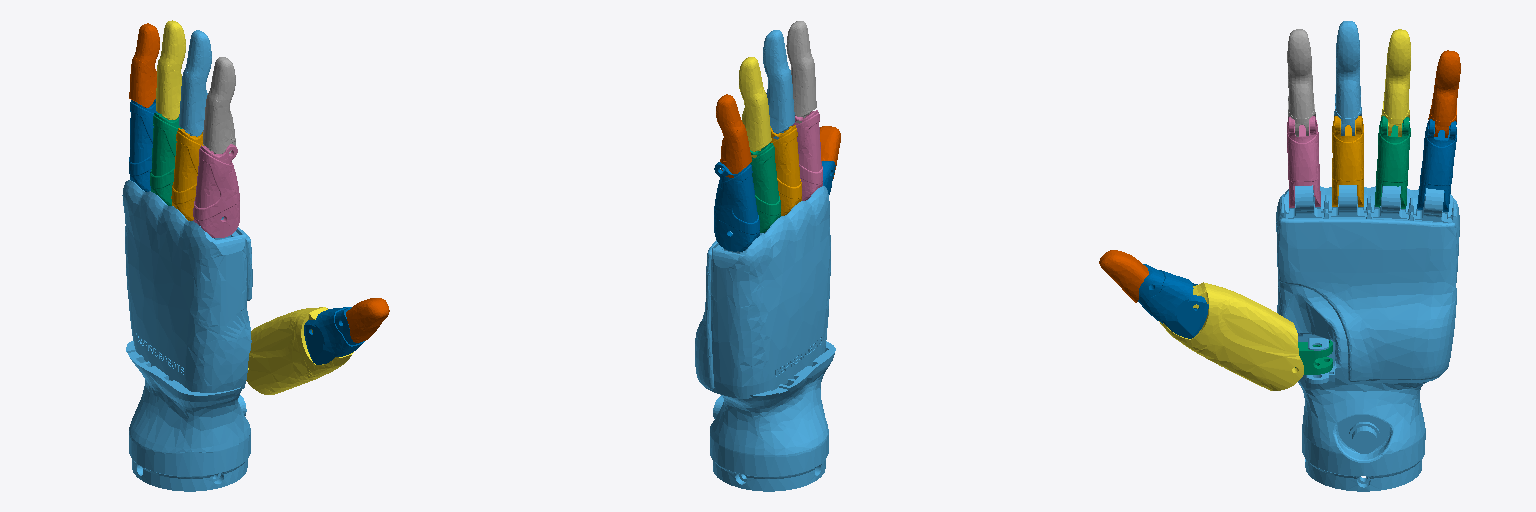
robot.urdf — inspire_hand_left:
<?xml version="1.0" encoding="utf-8"?>
<robot name="inspire_hand_left">
  <!--  joint limit reference: https://en.inspire-robots.com/-->
  <link name="base"/>
  <joint name="base_joint" type="fixed">
    <parent link="base"/>
    <child link="hand_base_link"/>
    <origin xyz="0 0 0" rpy="-1.5707963 0 3.14159"/>
  </joint>
  <link name="hand_base_link">
    <inertial>
      <origin xyz="-0.0025264 -0.066047 -0.0019598" rpy="0 0 0"/>
      <mass value="0.14143"/>
      <inertia ixx="0.00012281" ixy="2.1711E-06" ixz="1.7709E-06" iyy="8.3832E-05" iyz="-1.6551E-06" izz="7.6663E-05"/>
    </inertial>
    <visual>
      <origin xyz="0 0 0" rpy="0 0 0"/>
      <geometry>
        <mesh filename="meshes/visual/left_base_link.stl"/>
      </geometry>
    </visual>
    <collision>
      <origin xyz="0 -0.0136 0" rpy="1.57079 0 0"/>
      <geometry>
        <cylinder length="0.0278" radius="0.028"/>
      </geometry>
    </collision>
    <collision>
      <origin xyz="-0.0032 -0.038 0" rpy="0 0 0"/>
      <geometry>
        <box size="0.0391 0.0202 0.0574"/>
      </geometry>
    </collision>
    <collision>
      <origin xyz="-0.0032 -0.0682 0" rpy="0 0 0"/>
      <geometry>
        <box size="0.0391 0.04 0.0814"/>
      </geometry>
    </collision>
    <collision>
      <origin xyz="0 -0.1081 0" rpy="0 0 0"/>
      <geometry>
        <box size="0.0322 0.04 0.0814"/>
      </geometry>
    </collision>
    <collision>
      <origin xyz="-0.0016 -0.1340 -0.0309" rpy="0 0 0"/>
      <geometry>
        <box size="0.0125 0.0111 0.0089"/>
      </geometry>
    </collision>
    <collision>
      <origin xyz="-0.0016 -0.1340 -0.0118" rpy="0 0 0"/>
      <geometry>
        <box size="0.0125 0.0111 0.0089"/>
      </geometry>
    </collision>
    <collision>
      <origin xyz="-0.0016 -0.1340 0.0070" rpy="0 0 0"/>
      <geometry>
        <box size="0.0125 0.0111 0.0089"/>
      </geometry>
    </collision>
    <collision>
      <origin xyz="-0.0016 -0.1340 0.0262" rpy="0 0 0"/>
      <geometry>
        <box size="0.0125 0.0111 0.0089"/>
      </geometry>
    </collision>
  </link>
  <link name="thumb_proximal_base">
    <inertial>
      <origin xyz="0.0048817 0.0009382 -0.00722" rpy="0 0 0"/>
      <mass value="0.0018869"/>
      <inertia ixx="5.816E-08" ixy="-1.4539E-08" ixz="-4.491E-09" iyy="7.9161E-08" iyz="-1.8727E-09" izz="6.7433E-08"/>
    </inertial>
    <visual>
      <origin xyz="0 0 0" rpy="0 0 0"/>
      <geometry>
        <mesh filename="meshes/visual/left_thumb_proximal_base.stl"/>
      </geometry>
    </visual>
    <collision>
      <origin xyz="0 0 0" rpy="0 0 0"/>
      <geometry>
        <mesh filename="meshes/collision/left_thumb_proximal_base.obj"/>
      </geometry>
    </collision>
  </link>
  <joint name="thumb_proximal_yaw_joint" type="revolute">
    <origin xyz="-0.01696 -0.0691 0.02045" rpy="1.5708 -1.5708 0"/>
    <parent link="hand_base_link"/>
    <child link="thumb_proximal_base"/>
    <axis xyz="0 0 1"/>
    <limit lower="0" upper="1.308" effort="1" velocity="0.5"/>
  </joint>
  <link name="thumb_proximal">
    <inertial>
      <origin xyz="0.021932 -0.012785 -0.0080386" rpy="0 0 0"/>
      <mass value="0.0066075"/>
      <inertia ixx="1.5686E-06" ixy="7.8296E-07" ixz="8.9143E-10" iyy="1.7353E-06" iyz="1.0191E-09" izz="2.786E-06"/>
    </inertial>
    <visual>
      <origin xyz="0 0 0" rpy="0 0 0"/>
      <geometry>
        <mesh filename="meshes/visual/left_thumb_proximal.stl"/>
      </geometry>
    </visual>
    <collision>
      <origin xyz="0 0 0" rpy="0 0 0"/>
      <geometry>
        <mesh filename="meshes/collision/left_thumb_proximal.obj"/>
      </geometry>
    </collision>
  </link>
  <joint name="thumb_proximal_pitch_joint" type="revolute">
    <origin xyz="0.0099867 0.0098242 -0.0089" rpy="-1.5708 0 0.16939"/>
    <parent link="thumb_proximal_base"/>
    <child link="thumb_proximal"/>
    <axis xyz="0 0 -1"/>
    <limit lower="0" upper="0.6" effort="1" velocity="0.5"/>
  </joint>
  <link name="thumb_intermediate">
    <inertial>
      <origin xyz="0.0095544 0.0016282 -0.0071997" rpy="0 0 0"/>
      <mass value="0.0037847"/>
      <inertia ixx="3.6981E-07" ixy="9.8581E-08" ixz="-4.7469E-12" iyy="3.2394E-07" iyz="-1.0939E-12" izz="4.6531E-07"/>
    </inertial>
    <visual>
      <origin xyz="0 0 0" rpy="0 0 0"/>
      <geometry>
        <mesh filename="meshes/visual/left_thumb_intermediate.stl"/>
      </geometry>
    </visual>
    <collision>
      <origin xyz="0 0 0" rpy="0 0 0"/>
      <geometry>
        <mesh filename="meshes/collision/left_thumb_intermediate.obj"/>
      </geometry>
    </collision>
  </link>
  <joint name="thumb_intermediate_joint" type="revolute">
    <origin xyz="0.04407 -0.034553 -0.0008" rpy="0 0 0"/>
    <parent link="thumb_proximal"/>
    <child link="thumb_intermediate"/>
    <axis xyz="0 0 -1"/>
    <limit lower="0" upper="0.8" effort="1" velocity="0.5"/>
    <mimic joint="thumb_proximal_pitch_joint" multiplier="1.334" offset="0"/>
  </joint>
  <link name="thumb_distal">
    <inertial>
      <origin xyz="0.0092888 -0.0049529 -0.0060033" rpy="0 0 0"/>
      <mass value="0.0033441"/>
      <inertia ixx="1.3632E-07" ixy="5.6788E-08" ixz="-9.2764E-11" iyy="1.4052E-07" iyz="1.2283E-10" izz="2.0026E-07"/>
    </inertial>
    <visual>
      <origin xyz="0 0 0" rpy="0 0 0"/>
      <geometry>
        <mesh filename="meshes/visual/left_thumb_distal.stl"/>
      </geometry>
    </visual>
    <collision>
      <origin xyz="0 0 0" rpy="0 0 0"/>
      <geometry>
        <mesh filename="meshes/collision/left_thumb_distal.obj" scale="1 1 1"/>
      </geometry>
    </collision>
  </link>
  <joint name="thumb_distal_joint" type="revolute">
    <origin xyz="0.020248 -0.010156 -0.0012" rpy="0 0 0"/>
    <parent link="thumb_intermediate"/>
    <child link="thumb_distal"/>
    <axis xyz="0 0 -1"/>
    <limit lower="0" upper="0.4" effort="1" velocity="0.5"/>
    <mimic joint="thumb_proximal_pitch_joint" multiplier="0.667" offset="0"/>
  </joint>
  <link name="index_proximal">
    <inertial>
      <origin xyz="0.0012259 -0.011942 -0.0060001" rpy="0 0 0"/>
      <mass value="0.0042403"/>
      <inertia ixx="6.6232E-07" ixy="1.5775E-08" ixz="1.8515E-12" iyy="2.1146E-07" iyz="5.0828E-12" izz="6.9398E-07"/>
    </inertial>
    <visual>
      <origin xyz="0 0 0" rpy="0 0 0"/>
      <geometry>
        <mesh filename="meshes/visual/left_index_proximal.stl"/>
      </geometry>
    </visual>
    <collision>
      <origin xyz="0 0 0" rpy="0 0 0"/>
      <geometry>
        <mesh filename="meshes/collision/left_index_proximal.obj"/>
      </geometry>
    </collision>
  </link>
  <joint name="index_proximal_joint" type="revolute">
    <origin xyz="0.00028533 -0.13653 0.032268" rpy="-0.034907 0 0"/>
    <parent link="hand_base_link"/>
    <child link="index_proximal"/>
    <axis xyz="0 0 -1"/>
    <limit lower="0" upper="1.47" effort="1" velocity="0.5"/>
  </joint>
  <link name="index_intermediate">
    <inertial>
      <origin xyz="0.0019697 -0.019589 -0.005" rpy="0 0 0"/>
      <mass value="0.0045683"/>
      <inertia ixx="7.6111E-07" ixy="-8.7637E-08" ixz="-3.7751E-13" iyy="9.6076E-08" iyz="-9.9444E-13" izz="7.8179E-07"/>
    </inertial>
    <visual>
      <origin xyz="0 0 0" rpy="0 0 0"/>
      <geometry>
        <mesh filename="meshes/visual/left_index_intermediate.stl"/>
      </geometry>
    </visual>
    <collision>
      <origin xyz="0 0 0" rpy="0 0 0"/>
      <geometry>
        <mesh filename="meshes/collision/left_index_intermediate.obj"/>
      </geometry>
    </collision>
  </link>
  <joint name="index_intermediate_joint" type="revolute">
    <origin xyz="-0.0026138 -0.032026 -0.001" rpy="0 0 0"/>
    <parent link="index_proximal"/>
    <child link="index_intermediate"/>
    <axis xyz="0 0 -1"/>
    <limit lower="-0.04545" upper="1.56" effort="1" velocity="0.5"/>
    <mimic joint="index_proximal_joint" multiplier="1.06399" offset="-0.04545"/>
  </joint>
  <link name="middle_proximal">
    <inertial>
      <origin xyz="0.001297 -0.011934 -0.0060001" rpy="0 0 0"/>
      <mass value="0.0042403"/>
      <inertia ixx="6.6211E-07" ixy="1.8461E-08" ixz="1.8002E-12" iyy="2.1167E-07" iyz="6.6808E-12" izz="6.9397E-07"/>
    </inertial>
    <visual>
      <origin xyz="0 0 0" rpy="0 0 0"/>
      <geometry>
        <mesh filename="meshes/visual/left_index_proximal.stl"/>
      </geometry>
    </visual>
    <collision>
      <origin xyz="0 0 0" rpy="0 0 0"/>
      <geometry>
        <mesh filename="meshes/collision/left_index_proximal.obj"/>
      </geometry>
    </collision>
  </link>
  <joint name="middle_proximal_joint" type="revolute">
    <origin xyz="0.00028533 -0.1371 0.01295" rpy="0 0 0"/>
    <parent link="hand_base_link"/>
    <child link="middle_proximal"/>
    <axis xyz="0 0 -1"/>
    <limit lower="0" upper="1.47" effort="1" velocity="0.5"/>
  </joint>
  <link name="middle_intermediate">
    <inertial>
      <origin xyz="0.001921 -0.020796 -0.005" rpy="0 0 0"/>
      <mass value="0.0050396"/>
      <inertia ixx="9.5822E-07" ixy="-1.1425E-07" ixz="-2.4791E-12" iyy="1.0646E-07" iyz="-5.9173E-12" izz="9.8384E-07"/>
    </inertial>
    <visual>
      <origin xyz="0 0 0" rpy="0 0 0"/>
      <geometry>
        <mesh filename="meshes/visual/left_middle_intermediate.stl"/>
      </geometry>
    </visual>
    <collision>
      <origin xyz="0 0 0" rpy="0 0 0"/>
      <geometry>
        <mesh filename="meshes/collision/left_middle_intermediate.obj"/>
      </geometry>
    </collision>
  </link>
  <joint name="middle_intermediate_joint" type="revolute">
    <origin xyz="-0.0024229 -0.032041 -0.001" rpy="0 0 0"/>
    <parent link="middle_proximal"/>
    <child link="middle_intermediate"/>
    <axis xyz="0 0 -1"/>
    <limit lower="-0.04545" upper="1.56" effort="1" velocity="0.5"/>
    <mimic joint="middle_proximal_joint" multiplier="1.06399" offset="-0.04545"/>
  </joint>
  <link name="ring_proximal">
    <inertial>
      <origin xyz="0.001297 -0.011934 -0.0060002" rpy="0 0 0"/>
      <mass value="0.0042403"/>
      <inertia ixx="6.6211E-07" ixy="1.8461E-08" ixz="1.5793E-12" iyy="2.1167E-07" iyz="6.6868E-12" izz="6.9397E-07"/>
    </inertial>
    <visual>
      <origin xyz="0 0 0" rpy="0 0 0"/>
      <geometry>
        <mesh filename="meshes/visual/left_index_proximal.stl"/>
      </geometry>
    </visual>
    <collision>
      <origin xyz="0 0 0" rpy="0 0 0"/>
      <geometry>
        <mesh filename="meshes/collision/left_index_proximal.obj"/>
      </geometry>
    </collision>
  </link>
  <joint name="ring_proximal_joint" type="revolute">
    <origin xyz="0.00028533 -0.13691 -0.0062872" rpy="0.05236 0 0"/>
    <parent link="hand_base_link"/>
    <child link="ring_proximal"/>
    <axis xyz="0 0 -1"/>
    <limit lower="0" upper="1.47" effort="1" velocity="0.5"/>
  </joint>
  <link name="ring_intermediate">
    <inertial>
      <origin xyz="0.0021753 -0.019567 -0.005" rpy="0 0 0"/>
      <mass value="0.0045683"/>
      <inertia ixx="7.6286E-07" ixy="-8.0635E-08" ixz="-6.1562E-13" iyy="9.431E-08" iyz="-5.8619E-13" izz="7.8177E-07"/>
    </inertial>
    <visual>
      <origin xyz="0 0 0" rpy="0 0 0"/>
      <geometry>
        <mesh filename="meshes/visual/left_index_intermediate.stl"/>
      </geometry>
    </visual>
    <collision>
      <origin xyz="0 0 0" rpy="0 0 0"/>
      <geometry>
        <mesh filename="meshes/collision/left_index_intermediate.obj"/>
      </geometry>
    </collision>
  </link>
  <joint name="ring_intermediate_joint" type="revolute">
    <origin xyz="-0.0024229 -0.032041 -0.001" rpy="0 0 0"/>
    <parent link="ring_proximal"/>
    <child link="ring_intermediate"/>
    <axis xyz="0 0 -1"/>
    <limit lower="-0.04545" upper="1.56" effort="1" velocity="0.5"/>
    <mimic joint="ring_proximal_joint" multiplier="1.06399" offset="-0.04545"/>
  </joint>
  <link name="pinky_proximal">
    <inertial>
      <origin xyz="0.001297 -0.011934 -0.0060001" rpy="0 0 0"/>
      <mass value="0.0042403"/>
      <inertia ixx="6.6211E-07" ixy="1.8461E-08" ixz="1.6907E-12" iyy="2.1167E-07" iyz="6.9334E-12" izz="6.9397E-07"/>
    </inertial>
    <visual>
      <origin xyz="0 0 0" rpy="0 0 0"/>
      <geometry>
        <mesh filename="meshes/visual/left_index_proximal.stl"/>
      </geometry>
    </visual>
    <collision>
      <origin xyz="0 0 0" rpy="0 0 0"/>
      <geometry>
        <mesh filename="meshes/collision/left_index_proximal.obj"/>
      </geometry>
    </collision>
  </link>
  <joint name="pinky_proximal_joint" type="revolute">
    <origin xyz="0.00028533 -0.13571 -0.025488" rpy="0.10472 0 0"/>
    <parent link="hand_base_link"/>
    <child link="pinky_proximal"/>
    <axis xyz="0 0 -1"/>
    <limit lower="0" upper="1.47" effort="1" velocity="0.5"/>
  </joint>
  <link name="pinky_intermediate">
    <inertial>
      <origin xyz="0.0024748 -0.016203 -0.0050031" rpy="0 0 0"/>
      <mass value="0.0035996"/>
      <inertia ixx="4.3913E-07" ixy="-4.1418E-08" ixz="3.7168E-11" iyy="7.0247E-08" iyz="-5.8613E-11" izz="4.4867E-07"/>
    </inertial>
    <visual>
      <origin xyz="0 0 0" rpy="0 0 0"/>
      <geometry>
        <mesh filename="meshes/visual/left_pinky_intermediate.stl"/>
      </geometry>
    </visual>
    <collision>
      <origin xyz="0 0 0" rpy="0 0 0"/>
      <geometry>
        <mesh filename="meshes/collision/left_pinky_intermediate.obj"/>
      </geometry>
    </collision>
  </link>
  <joint name="pinky_intermediate_joint" type="revolute">
    <origin xyz="-0.0024229 -0.032041 -0.001" rpy="0 0 0"/>
    <parent link="pinky_proximal"/>
    <child link="pinky_intermediate"/>
    <axis xyz="0 0 -1"/>
    <limit lower="-0.04545" upper="1.56" effort="1" velocity="0.5"/>
    <mimic joint="pinky_proximal_joint" multiplier="1.06399" offset="-0.04545"/>
  </joint>

  <link name='thumb_tip'/>
  <joint name="thumb_tip_joint" type="fixed">
    <origin xyz="0.0202 -0.0140 -0.006" rpy="0 0 0"/>
    <parent link="thumb_distal"/>
    <child link="thumb_tip"/>
  </joint>
  <link name='index_tip'/>
  <joint name="index_tip_joint" type="fixed">
    <origin xyz="-0.0008 -0.045 -0.005" rpy="0 0 0"/>
    <parent link="index_intermediate"/>
    <child link="index_tip"/>
  </joint>
  <link name='middle_tip'/>
  <joint name="middle_tip_joint" type="fixed">
    <origin xyz="-0.001 -0.048 -0.005" rpy="0 0 0"/>
    <parent link="middle_intermediate"/>
    <child link="middle_tip"/>
  </joint>
  <link name='ring_tip'/>
  <joint name="ring_tip_joint" type="fixed">
    <origin xyz="-0.0008 -0.045 -0.005" rpy="0 0 0"/>
    <parent link="ring_intermediate"/>
    <child link="ring_tip"/>
  </joint>
  <link name='pinky_tip'/>
  <joint name="pinky_tip_joint" type="fixed">
    <origin xyz="-0.0008 -0.037 -0.005" rpy="0 0 0"/>
    <parent link="pinky_intermediate"/>
    <child link="pinky_tip"/>
  </joint>
</robot>

--- Facts derived from the render (not from the file) ---
The picture shows the robot from 3 angles, left to right: view 1: azimuth 30°, elevation 25°; view 2: azimuth 150°, elevation 25°; view 3: azimuth 270°, elevation 25°; orthographic projection.
Model inspire_hand_left with 19 links and 18 joints (12 revolute, 6 fixed), rooted at base, posed all joints at 0.
Links seen in each view (by area): view 1: hand_base_link, thumb_proximal, index_proximal, middle_intermediate, index_intermediate, ring_intermediate, thumb_intermediate, middle_proximal, ring_proximal, pinky_intermediate, pinky_proximal, thumb_distal; view 2: hand_base_link, pinky_proximal, middle_intermediate, ring_intermediate, index_intermediate, pinky_intermediate, middle_proximal, ring_proximal, index_proximal, thumb_distal; view 3: hand_base_link, thumb_proximal, thumb_intermediate, middle_intermediate, index_intermediate, ring_intermediate, pinky_proximal, middle_proximal, ring_proximal, index_proximal, pinky_intermediate, thumb_distal (+1 smaller).
Link boxes in pixels (bbox=[...]): hand_base_link: bbox=[122, 180, 252, 491]; thumb_proximal: bbox=[246, 307, 353, 394]; index_proximal: bbox=[193, 144, 239, 237]; middle_intermediate: bbox=[179, 30, 211, 136]; index_intermediate: bbox=[203, 57, 235, 153]; ring_intermediate: bbox=[156, 20, 185, 119]; thumb_intermediate: bbox=[304, 307, 364, 364]; middle_proximal: bbox=[171, 128, 203, 220]; ring_proximal: bbox=[150, 113, 181, 205]; pinky_intermediate: bbox=[129, 23, 159, 107]; pinky_proximal: bbox=[129, 99, 159, 191]; thumb_distal: bbox=[346, 298, 389, 342]; hand_base_link: bbox=[695, 186, 835, 491]; pinky_proximal: bbox=[714, 162, 759, 251]; middle_intermediate: bbox=[763, 30, 794, 139]; ring_intermediate: bbox=[739, 57, 771, 157]; index_intermediate: bbox=[786, 21, 816, 123]; pinky_intermediate: bbox=[716, 94, 751, 177]; middle_proximal: bbox=[770, 125, 801, 215]; ring_proximal: bbox=[750, 143, 780, 232]; index_proximal: bbox=[792, 110, 822, 200]; thumb_distal: bbox=[820, 126, 840, 178]; hand_base_link: bbox=[1276, 185, 1459, 491]; thumb_proximal: bbox=[1159, 282, 1303, 390]; thumb_intermediate: bbox=[1138, 264, 1208, 338]; middle_intermediate: bbox=[1334, 21, 1361, 135]; index_intermediate: bbox=[1287, 29, 1315, 136]; ring_intermediate: bbox=[1381, 29, 1410, 136]; pinky_proximal: bbox=[1417, 119, 1456, 211]; middle_proximal: bbox=[1332, 116, 1363, 206]; ring_proximal: bbox=[1375, 116, 1410, 208]; index_proximal: bbox=[1287, 116, 1320, 207]; pinky_intermediate: bbox=[1428, 50, 1460, 137]; thumb_distal: bbox=[1099, 250, 1148, 302].
Bounding box of the posed robot: 0.0657 × 0.1602 × 0.2182 m (x, y, z).
Meshes: 9 distinct files referenced, 13 mesh visuals loaded (9 binary STL).
